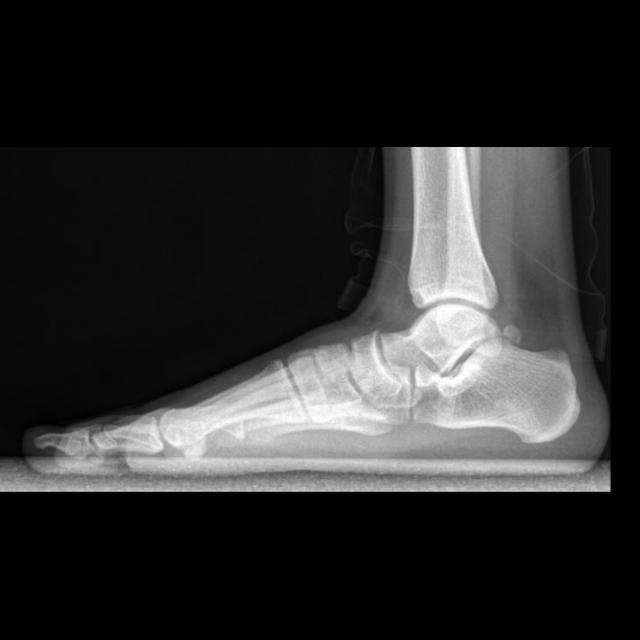a: (411, 336, 581, 444)
b: (350, 330, 405, 407)
c: (158, 360, 311, 448)
